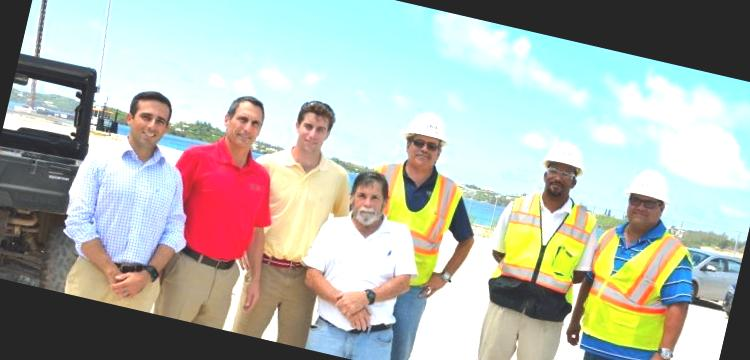helmet: (398, 103, 460, 152), (534, 136, 592, 184), (621, 166, 678, 210)
no_vest: (74, 131, 190, 255), (171, 137, 276, 262), (255, 144, 347, 260), (311, 220, 404, 326)
person: (54, 78, 220, 318), (352, 106, 503, 360), (224, 91, 370, 351), (153, 82, 296, 334), (462, 133, 620, 360), (562, 158, 717, 360), (285, 159, 438, 360)
